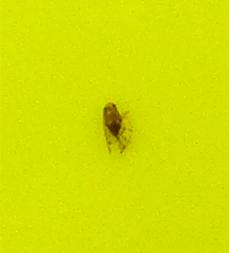Hemiptera: (100, 100, 129, 153)
